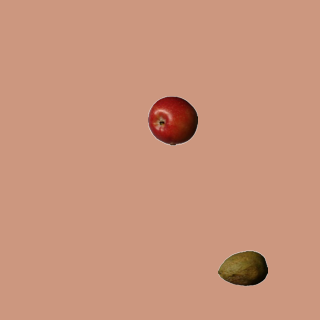Apple Braeburn: (147, 95, 197, 145)
Papaya: (217, 243, 267, 293)
